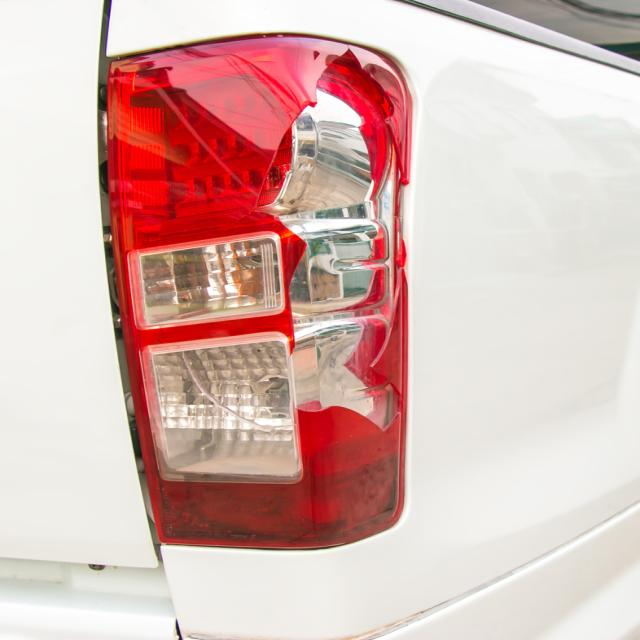Phare abime: (235, 36, 420, 466)
